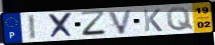I: (26, 14, 38, 41)
K: (141, 8, 164, 32)
Q: (165, 6, 195, 32)
V: (106, 9, 135, 35)
X: (47, 12, 75, 40)
Z: (79, 10, 109, 37)
